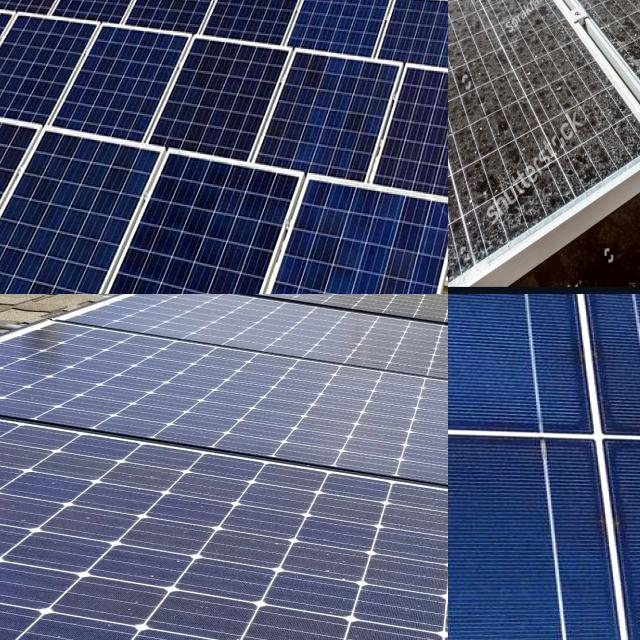crack: (0, 0, 448, 294), (29, 150, 338, 294), (9, 104, 188, 294), (197, 201, 448, 294)
dust: (448, 0, 513, 231), (448, 0, 491, 281), (522, 42, 582, 195), (532, 0, 628, 41), (578, 0, 640, 53), (448, 0, 485, 55)
shadow: (448, 447, 600, 640)
